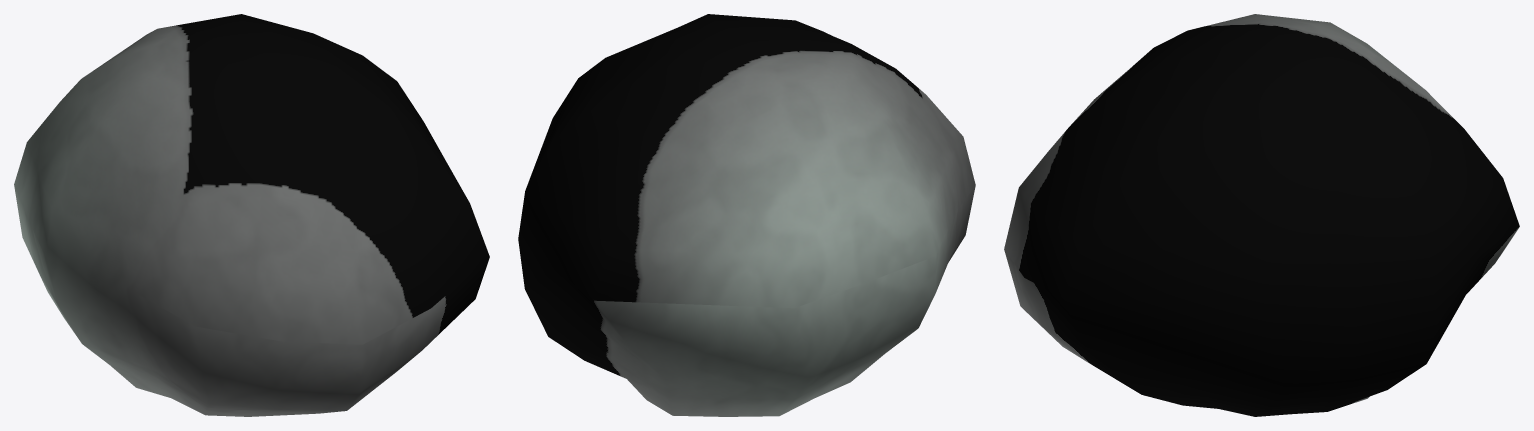
The model's file is Rock_Large_02.fbx.
The picture shows the model from 3 angles, left to right: view 1: azimuth 30°, elevation 25°; view 2: azimuth 150°, elevation 25°; view 3: azimuth 270°, elevation 25°; orthographic projection.
Parts seen in each view (by area): view 1: Rock_Large_02; view 2: Rock_Large_02; view 3: Rock_Large_02.
Boxes of the visible parts, left/top/right/bottom form: Rock_Large_02: left=14, top=14, right=489, bottom=416; Rock_Large_02: left=518, top=14, right=975, bottom=416; Rock_Large_02: left=1004, top=14, right=1519, bottom=416.
Size of the model in its own units: 1131 by 939 by 1312.
